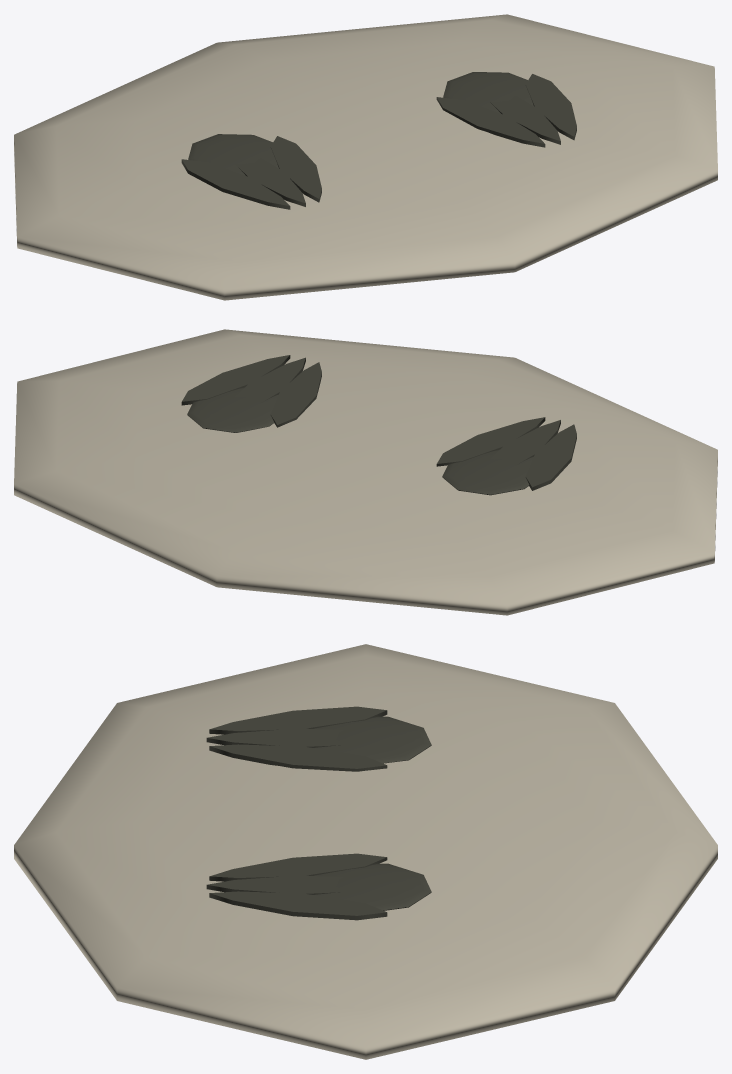
File: dinosaurs-and-prehistoric-life-footprint-slab-e93f964e__4924.glb
The picture shows the model from 3 angles, top to bottom: view 1: azimuth 30°, elevation 25°; view 2: azimuth 150°, elevation 25°; view 3: azimuth 270°, elevation 25°; orthographic projection. The views are drawn at different scales.
Visible parts, largest first — view 1: footprint-slab; view 2: footprint-slab; view 3: footprint-slab.
Boxes of the visible parts, box(x1,y1,x2,y2) form: footprint-slab: box(14, 14, 717, 300); footprint-slab: box(14, 329, 717, 615); footprint-slab: box(14, 644, 717, 1059).
Size of the model in its own units: 1.35 by 0.1263 by 0.9999.
